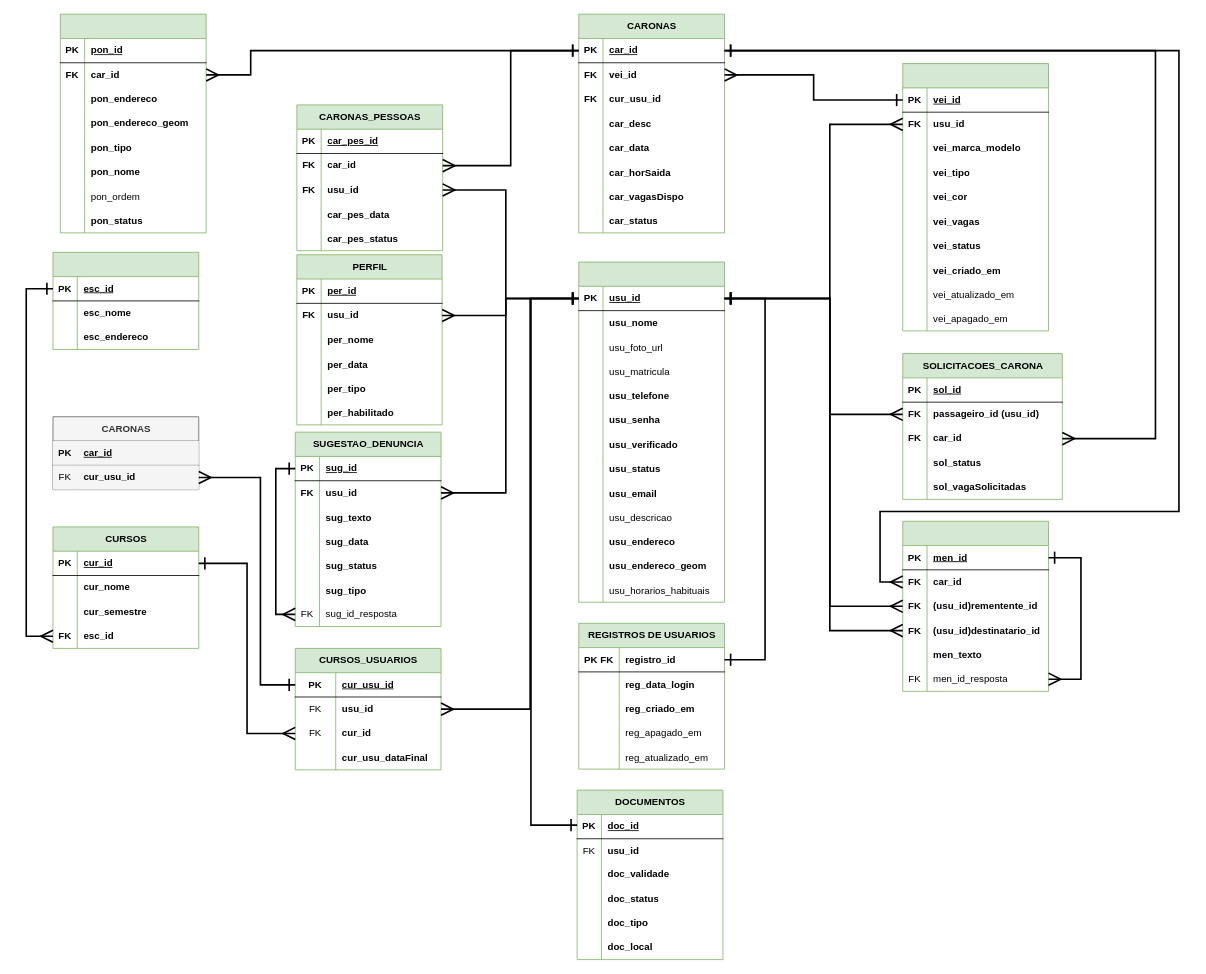
Image size: 1206x974. Some labels were removed from this diagram. The shapes that lost their labels are listed below. From the top down, each one's box as (x1, y1, x2, y2) in pixels, then its label:
(60, 13, 206, 233): PONTO_ENCONTRO
(902, 63, 1049, 331): VEICULOS
(52, 252, 199, 350): ESCOLAS
(578, 261, 725, 602): USUARIOS
(902, 520, 1049, 691): MENSAGENS
